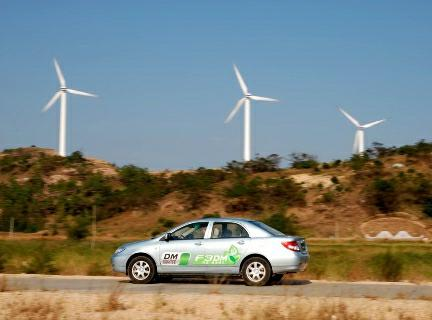car: (105, 213, 313, 288)
